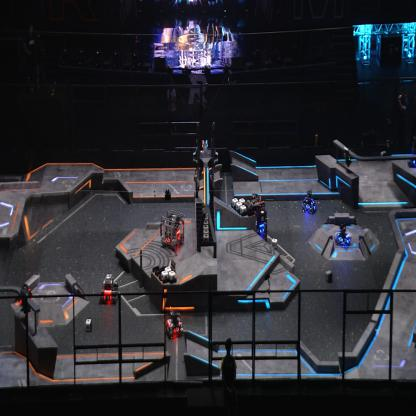car: (158, 208, 184, 250), (244, 198, 267, 239), (99, 272, 119, 304), (164, 308, 184, 340), (332, 222, 352, 249), (300, 189, 317, 215), (408, 134, 416, 168)
